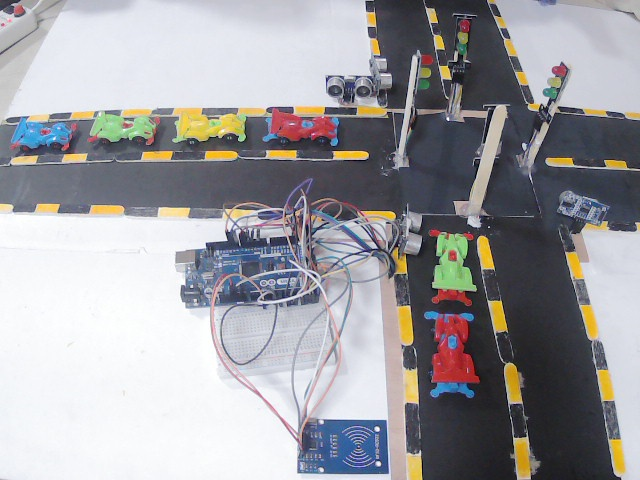car: (422, 307, 495, 405), (432, 223, 474, 298), (265, 105, 334, 146), (392, 206, 433, 267), (86, 109, 150, 141), (12, 117, 77, 147), (175, 114, 244, 141)
traffic_light: (478, 104, 504, 157), (415, 53, 441, 94), (454, 21, 475, 67), (545, 66, 567, 101)
uno_breadboard: (193, 218, 366, 369), (291, 415, 395, 476), (555, 188, 611, 225), (330, 71, 378, 100), (370, 48, 395, 97)
